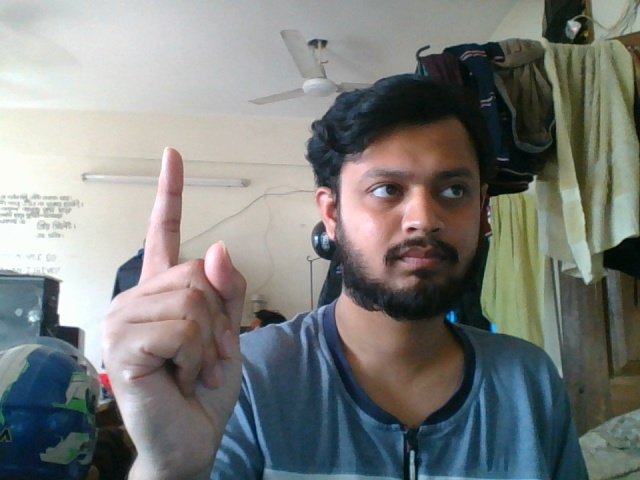u: (106, 139, 257, 456)
